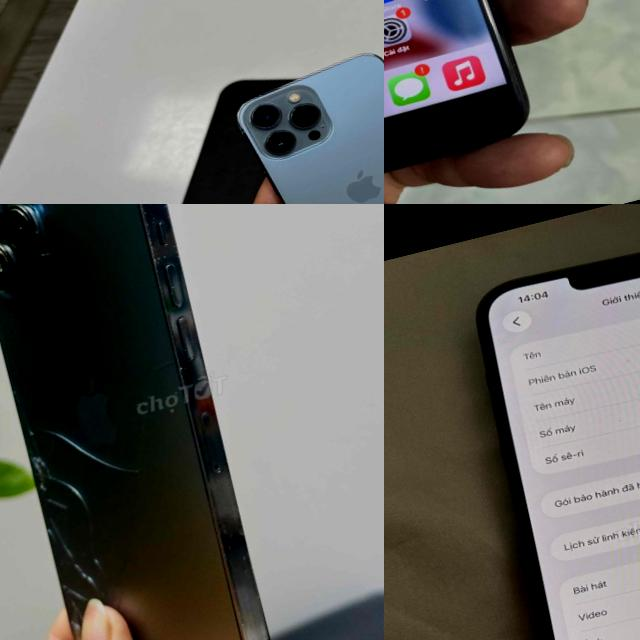gen_12_13: (0, 204, 317, 640), (448, 206, 640, 640), (222, 32, 384, 204)
gen_7_8: (384, 0, 543, 204)
physical_damage: (0, 372, 192, 640)
scratch: (109, 204, 224, 442), (496, 46, 532, 111)
